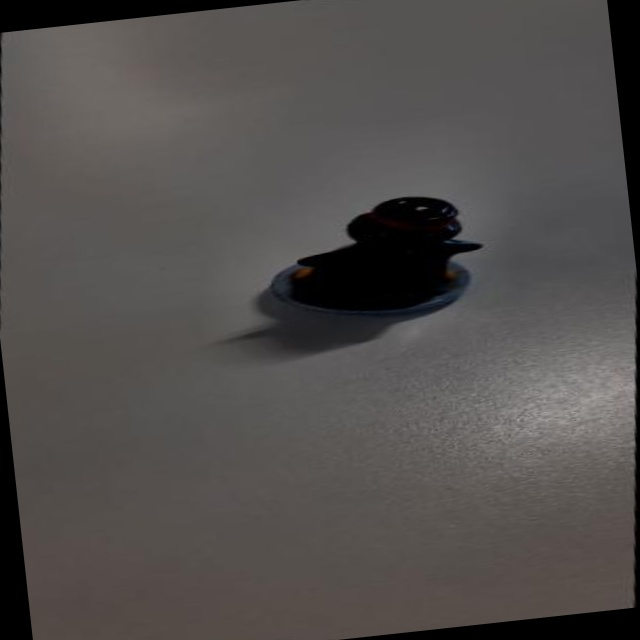Penguin: (253, 181, 498, 337)
